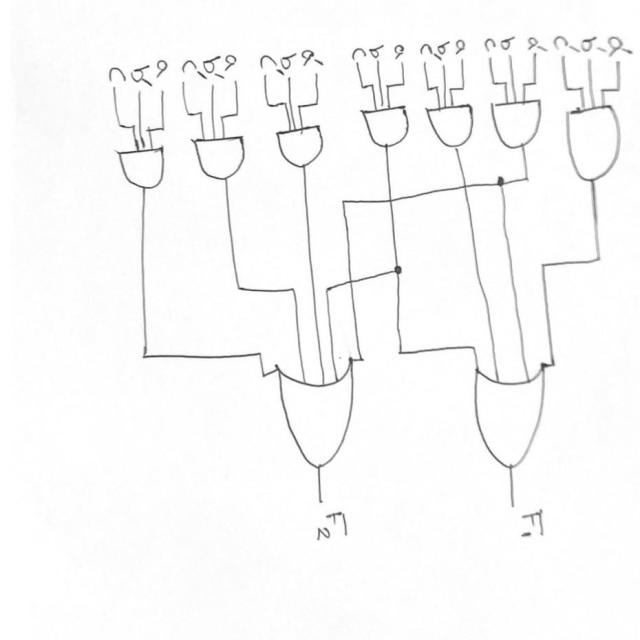AND: (562, 98, 623, 185), (487, 92, 546, 156), (188, 132, 257, 186), (106, 144, 176, 196), (355, 98, 414, 152), (422, 102, 480, 151), (272, 124, 331, 171)
OR: (248, 352, 382, 472), (464, 361, 566, 477)
